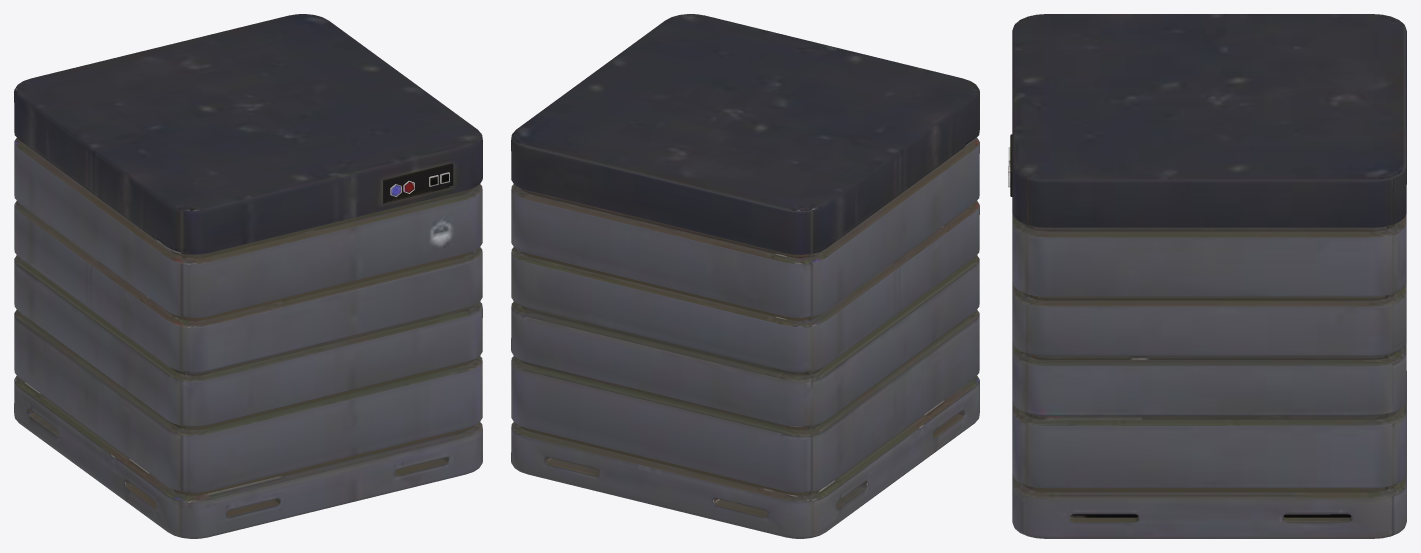
File: cooler.glb
The picture shows the model from 3 angles, left to right: view 1: azimuth 30°, elevation 25°; view 2: azimuth 150°, elevation 25°; view 3: azimuth 270°, elevation 25°; orthographic projection. The views are drawn at different scales.
Visible parts, largest first — view 1: Object_4; view 2: Object_4; view 3: Object_4.
Part boxes in pixels (<box>): Object_4: <box>14,14,482,538</box>; Object_4: <box>511,14,979,538</box>; Object_4: <box>1008,14,1406,538</box>.
Bounding box in the file's own units: 0.8553 × 0.9 × 0.8644.
Materials: 1 (1 with a texture image).
